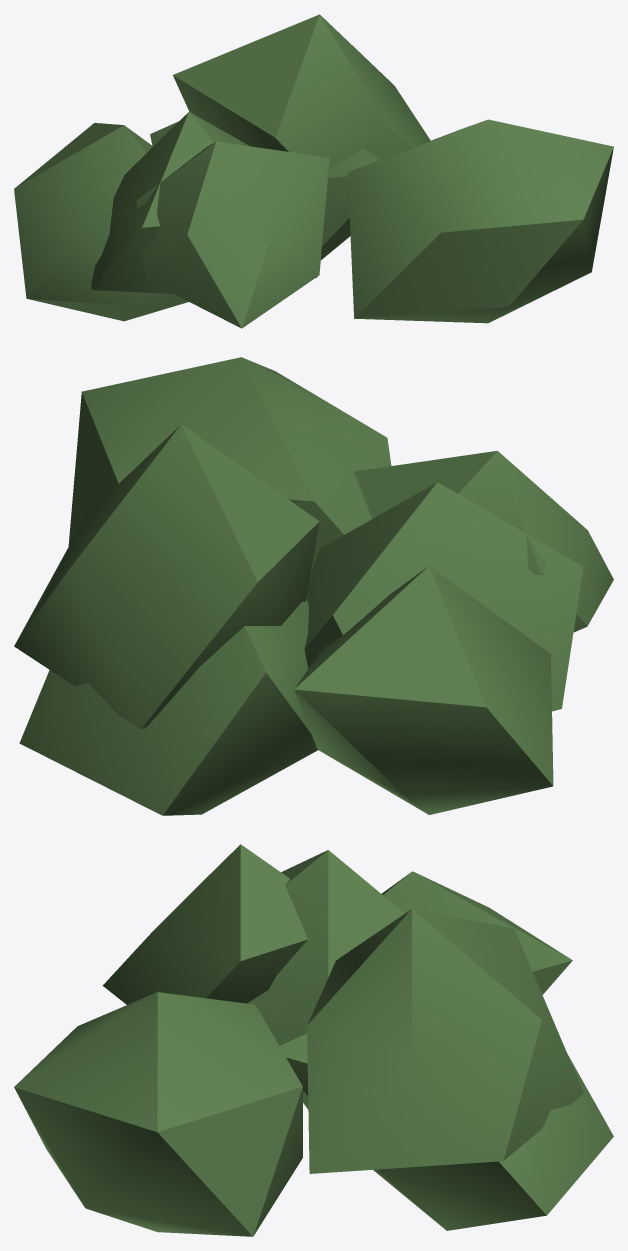
The model's file is bush_a.glb.
The picture shows the model from 3 angles, top to bottom: view 1: azimuth 30°, elevation 25°; view 2: azimuth 150°, elevation 25°; view 3: azimuth 270°, elevation 25°; orthographic projection. The views are drawn at different scales.
Parts seen in each view (by area): view 1: bush_mesh; view 2: bush_mesh; view 3: bush_mesh.
Boxes of the visible parts, left/top/right/bottom form: bush_mesh: left=14, top=14, right=613, bottom=328; bush_mesh: left=14, top=357, right=613, bottom=815; bush_mesh: left=14, top=844, right=613, bottom=1236.
Size of what is drawn, in the model's own units: 1.57 by 0.9036 by 1.45.
